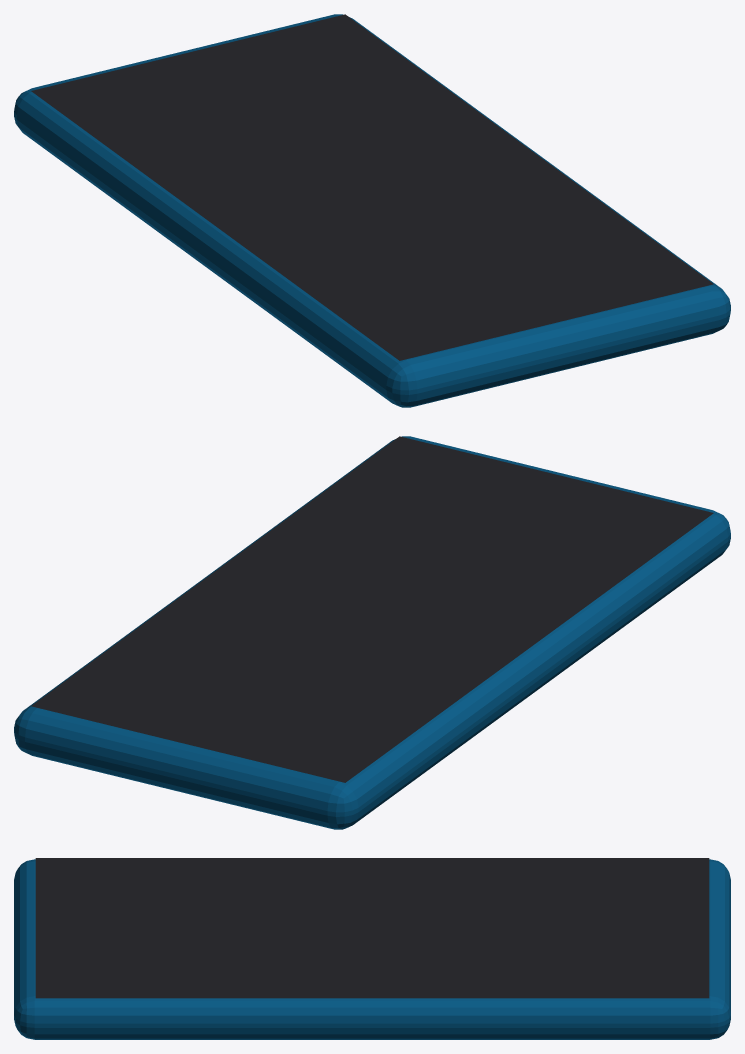
File: oneplus-nord-ce-model-270-flagship-2026.glb
3 renders of one model, top to bottom at view 1: azimuth 30°, elevation 25°; view 2: azimuth 150°, elevation 25°; view 3: azimuth 270°, elevation 25°, orthographic. The views are drawn at different scales.
Visible parts, largest first — view 1: Phone_Screen, Phone_Body; view 2: Phone_Screen, Phone_Body; view 3: Phone_Screen, Phone_Body.
Part boxes in pixels (x1=…): Phone_Screen: x1=31, y1=14, x2=713, y2=360; Phone_Body: x1=14, y1=14, x2=730, y2=407; Phone_Screen: x1=31, y1=436, x2=713, y2=782; Phone_Body: x1=14, y1=436, x2=730, y2=829; Phone_Screen: x1=35, y1=858, x2=709, y2=998; Phone_Body: x1=14, y1=859, x2=730, y2=1039.
Size of the model in its own units: 0.0758 by 0.0098 by 0.1507.
